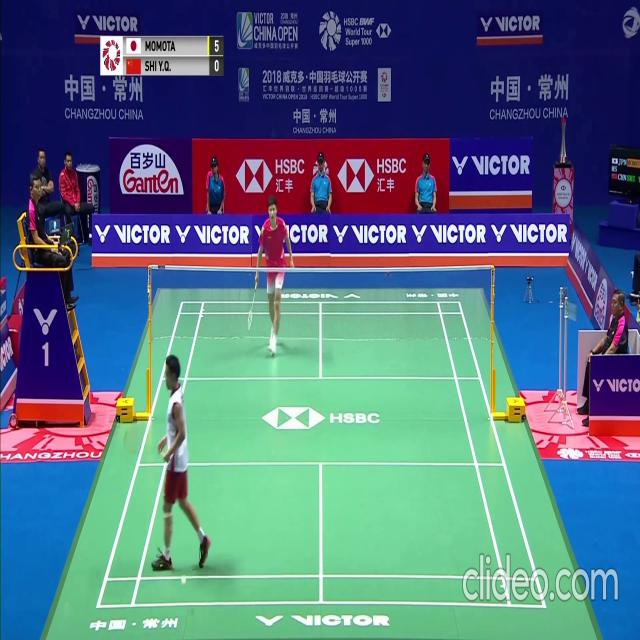Shuttlecock: (181, 577, 186, 584)
